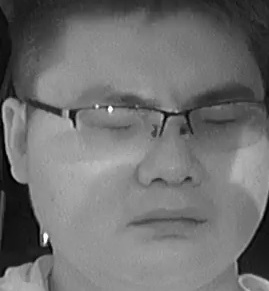blink: (103, 119, 137, 137), (201, 114, 237, 127)
glass: (71, 103, 164, 153), (185, 98, 269, 153)
mouth: (132, 204, 202, 238)
